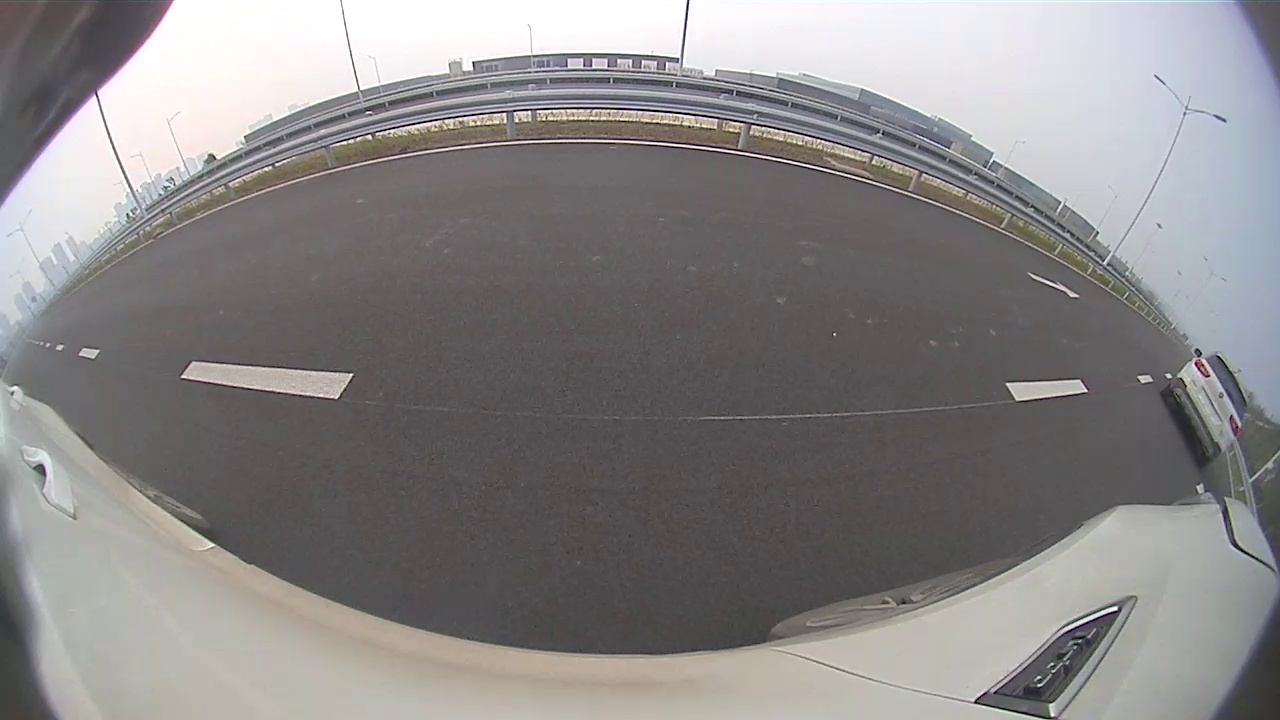car: (1159, 347, 1249, 469)
